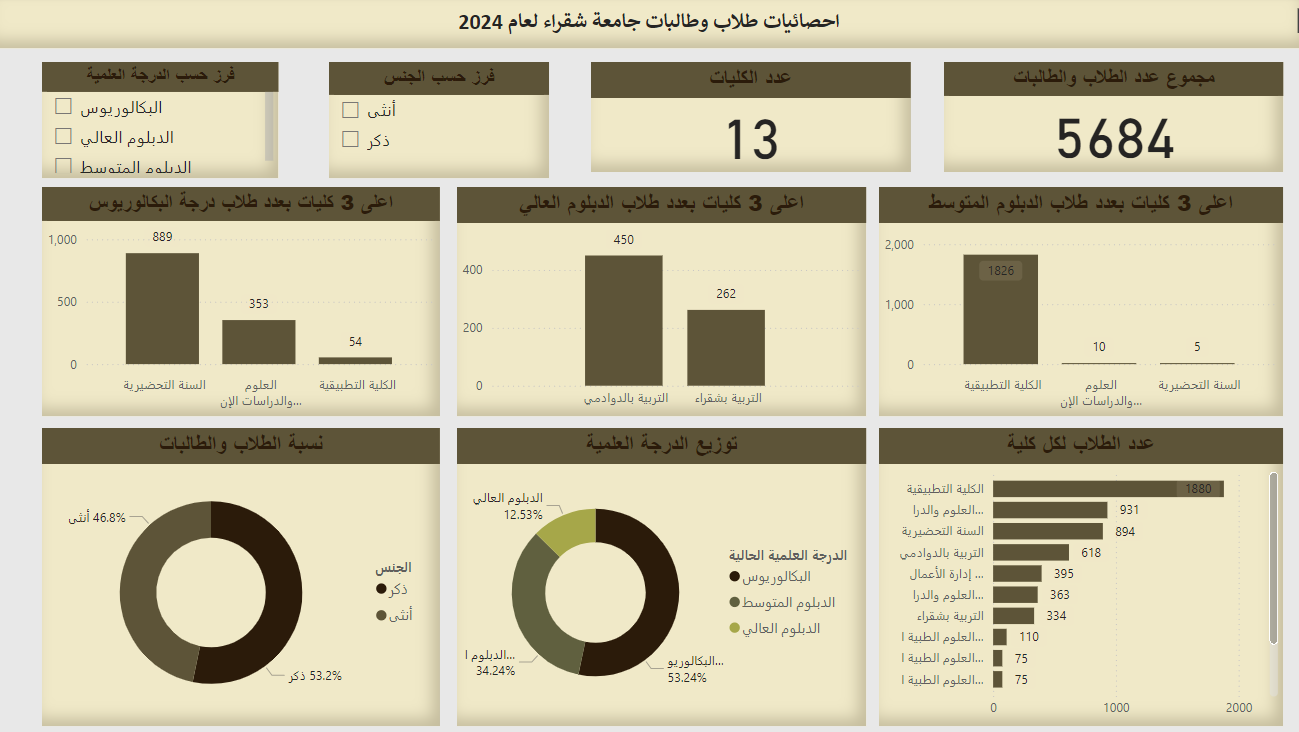

The page's visual inventory and layout, read from the dashboard file:
{"tool":"powerbi","page":{"name":"Page ١","canvas":[1280,720],"ordinal":0},"visuals":[{"type":"textbox","box":[0,0,1280,51],"z":0},{"type":"card","title":"مجموع عدد الطلاب والطالبات ","fields":{"Values":["جدول بيانات جامعة شقراء.#Students"]},"box":[923,63.8,330.3,107],"z":1000},{"type":"card","title":"عدد الكليات","fields":{"Values":["جدول بيانات جامعة شقراء.#Facalities"]},"box":[579.3,63.8,310.7,107],"z":2000},{"type":"barChart","title":"عدد الطلاب لكل كلية ","fields":{"Category":["جدول بيانات جامعة شقراء.الكلية "],"Y":["جدول بيانات جامعة شقراء.#Students"]},"box":[860.2,419.8,393.1,290.2],"z":3000},{"type":"donutChart","title":"نسبة الطلاب والطالبات","fields":{"Y":["CountNonNull(جدول بيانات جامعة شقراء.الجنس)"],"Category":["جدول بيانات جامعة شقراء.الجنس"]},"box":[45.3,419.8,386.9,290.2],"z":4000},{"type":"donutChart","title":"توزيع الدرجة العلمية","fields":{"Category":["جدول بيانات جامعة شقراء.الدرجة العلمية الحالية"],"Y":["CountNonNull(جدول بيانات جامعة شقراء.الدرجة العلمية الحالية)"]},"box":[449.6,419.8,398.2,290.2],"z":5000},{"type":"columnChart","title":"اعلى 3 كليات بعدد طلاب درجة البكالوريوس","fields":{"Category":["جدول بيانات جامعة شقراء.الكلية "],"Y":["CountNonNull(جدول بيانات جامعة شقراء.الدرجة العلمية الحالية)"]},"box":[45.3,186.2,386.9,223.3],"z":6000},{"type":"slicer","title":"فرز حسب الجنس","fields":{"Values":["جدول بيانات جامعة شقراء.الجنس"]},"box":[325.1,63.8,214,113.2],"z":7000},{"type":"slicer","title":"فرز حسب الدرجة العلمية","fields":{"Values":["جدول بيانات جامعة شقراء.الدرجة العلمية الحالية"]},"box":[45.3,63.8,230.5,113.2],"z":8000},{"type":"columnChart","title":"اعلى 3 كليات بعدد طلاب الدبلوم العالي","fields":{"Category":["جدول بيانات جامعة شقراء.الكلية "],"Y":["CountNonNull(جدول بيانات جامعة شقراء.الدرجة العلمية الحالية)"]},"box":[449.6,186.2,398.2,223.3],"z":9000},{"type":"columnChart","title":"اعلى 3 كليات بعدد طلاب الدبلوم المتوسط","fields":{"Category":["جدول بيانات جامعة شقراء.الكلية "],"Y":["CountNonNull(جدول بيانات جامعة شقراء.الدرجة العلمية الحالية)"]},"box":[860.2,186.2,393.1,223.3],"z":10000}]}

Visuals, with their boxes in screenshot pixels (x1, y1, x2, y2), scaled from the page's 1280x720 canvas onto the 1299x732 screenshot:
textbox: x1=0, y1=0, x2=1298, y2=52
"مجموع عدد الطلاب والطالبات " card: x1=937, y1=65, x2=1272, y2=174
"عدد الكليات" card: x1=588, y1=65, x2=903, y2=174
"عدد الطلاب لكل كلية " barChart: x1=873, y1=427, x2=1272, y2=722
"نسبة الطلاب والطالبات" donutChart: x1=46, y1=427, x2=439, y2=722
"توزيع الدرجة العلمية" donutChart: x1=456, y1=427, x2=860, y2=722
"اعلى 3 كليات بعدد طلاب درجة البكالوريوس" columnChart: x1=46, y1=189, x2=439, y2=416
"فرز حسب الجنس" slicer: x1=330, y1=65, x2=547, y2=180
"فرز حسب الدرجة العلمية" slicer: x1=46, y1=65, x2=280, y2=180
"اعلى 3 كليات بعدد طلاب الدبلوم العالي" columnChart: x1=456, y1=189, x2=860, y2=416
"اعلى 3 كليات بعدد طلاب الدبلوم المتوسط" columnChart: x1=873, y1=189, x2=1272, y2=416
